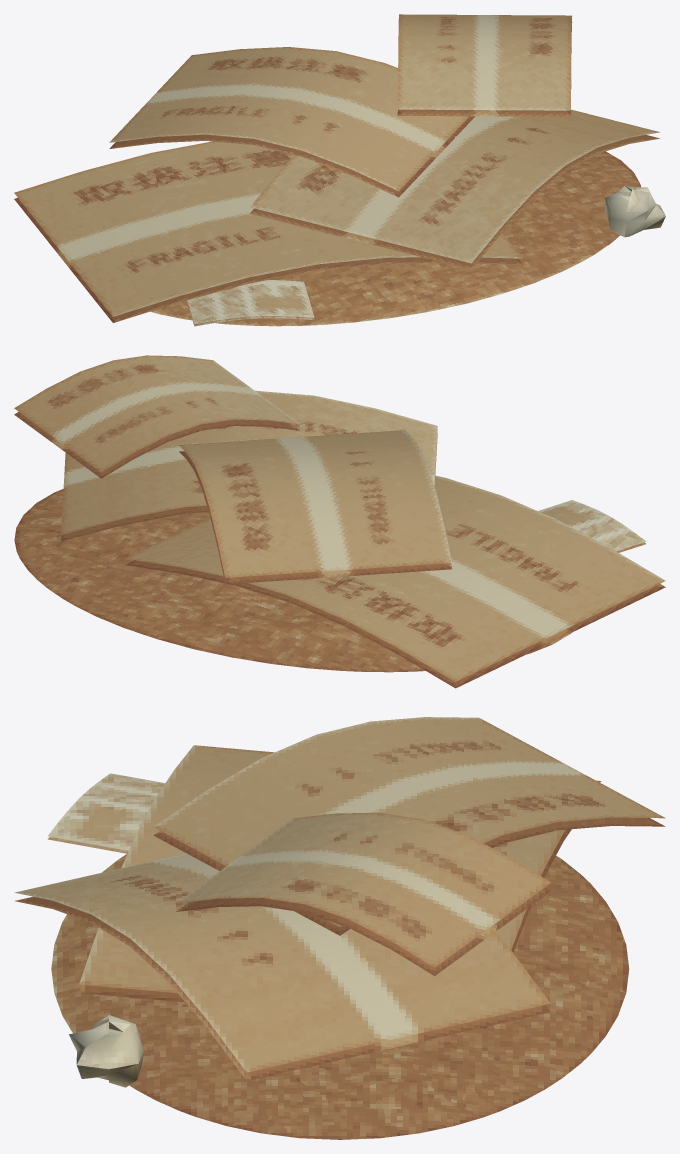
Rendered from cardboardmess.glb.
The picture shows the model from 3 angles, top to bottom: view 1: azimuth 30°, elevation 25°; view 2: azimuth 150°, elevation 25°; view 3: azimuth 270°, elevation 25°; orthographic projection. The views are drawn at different scales.
Parts seen in each view (by area): view 1: mesh; view 2: mesh; view 3: mesh.
Boxes of the visible parts, x1,y1,x2,y2 form: mesh: (14,14,665,326); mesh: (14,355,665,688); mesh: (14,717,665,1139).
Bounding box in the file's own units: 0.8757 × 0.2159 × 0.6525.
1 material, 1 textured.
